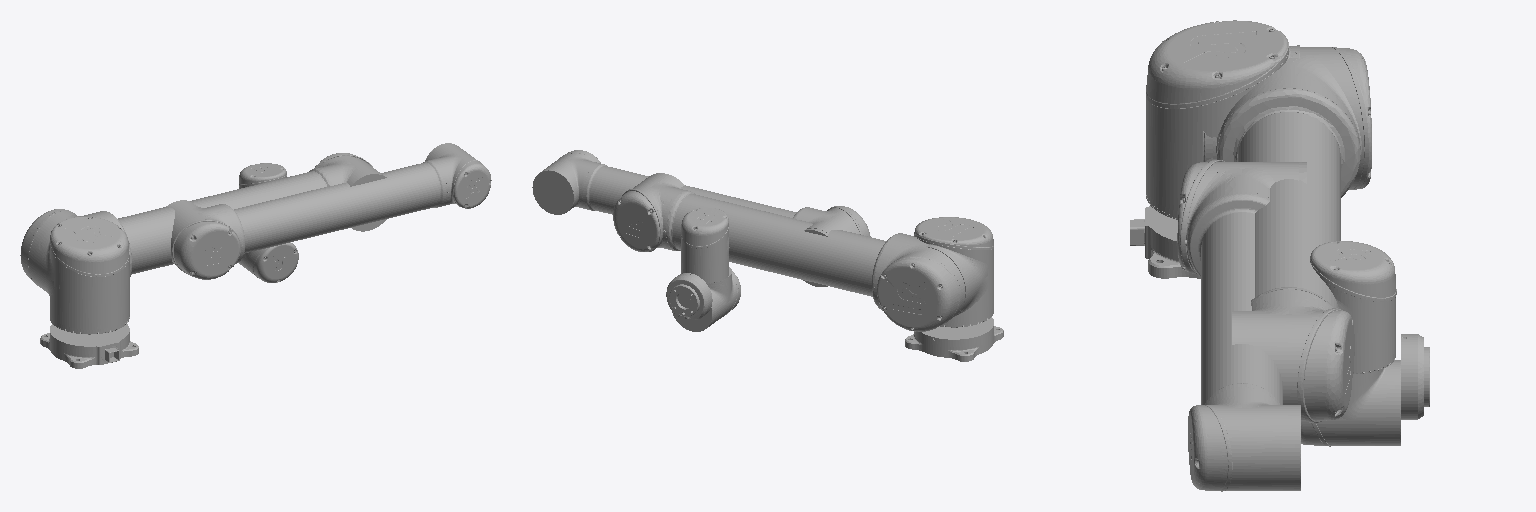
URDF robot description (UR3e):
<?xml version="1.0" encoding="utf-8"?>
<!-- =================================================================================== -->
<!-- |    This document was autogenerated by xacro from ur3e_robot.urdf.xacro          | -->
<!-- |    EDITING THIS FILE BY HAND IS NOT RECOMMENDED                                 | -->
<!-- =================================================================================== -->
<robot name="UR3e">
  <gazebo>
    <plugin filename="libgazebo_ros_control.so" name="ros_control">
      <!--robotNamespace>/</robotNamespace-->
      <!--robotSimType>gazebo_ros_control/DefaultRobotHWSim</robotSimType-->
    </plugin>
    <!--
    <plugin name="gazebo_ros_power_monitor_controller" filename="libgazebo_ros_power_monitor.so">
      <alwaysOn>true</alwaysOn>
      <updateRate>1.0</updateRate>
      <timeout>5</timeout>
      <powerStateTopic>power_state</powerStateTopic>
      <powerStateRate>10.0</powerStateRate>
      <fullChargeCapacity>87.78</fullChargeCapacity>     
      <dischargeRate>-474</dischargeRate>
      <chargeRate>525</chargeRate>
      <dischargeVoltage>15.52</dischargeVoltage>
      <chargeVoltage>16.41</chargeVoltage>
    </plugin>
-->
  </gazebo>
  <!--
  Author: [author]
-->
  <!-- measured from model -->
  <link name="base_link">
    <visual>
      <geometry>
        <mesh filename="./meshes/ur3e/visual/base.dae"/>
      </geometry>
      <material name="LightGrey">
        <color rgba="0.7 0.7 0.7 1.0"/>
      </material>
    </visual>
    <collision>
      <geometry>
        <mesh filename="./meshes/ur3e/collision/base.stl"/>
      </geometry>
    </collision>
    <inertial>
      <mass value="2.0"/>
      <origin rpy="0 0 0" xyz="0.0 0.0 0.0"/>
      <inertia ixx="0.0030531654454" ixy="0.0" ixz="0.0" iyy="0.0030531654454" iyz="0.0" izz="0.005625"/>
    </inertial>
  </link>
  <joint name="shoulder_pan_joint" type="revolute">
    <parent link="base_link"/>
    <child link="shoulder_link"/>
    <origin rpy="0.0 0.0 0.0" xyz="0.0 0.0 0.152"/>
    <axis xyz="0 0 1"/>
    <limit effort="330.0" lower="-6.28318530718" upper="6.28318530718" velocity="3.14"/>
    <dynamics damping="0.0" friction="0.0"/>
  </joint>
  <link name="shoulder_link">
    <visual>
      <geometry>
        <mesh filename="./meshes/ur3e/visual/shoulder.dae"/>
      </geometry>
      <material name="LightGrey">
        <color rgba="0.7 0.7 0.7 1.0"/>
      </material>
    </visual>
    <collision>
      <geometry>
        <mesh filename="./meshes/ur3e/collision/shoulder.stl"/>
      </geometry>
    </collision>
    <inertial>
      <mass value="2.0"/>
      <origin rpy="0 0 0" xyz="0.0 0.0 0.0"/>
      <inertia ixx="0.0080931634294" ixy="0.0" ixz="0.0" iyy="0.0080931634294" iyz="0.0" izz="0.005625"/>
    </inertial>
  </link>
  <joint name="shoulder_lift_joint" type="revolute">
    <parent link="shoulder_link"/>
    <child link="upper_arm_link"/>
    <origin rpy="0.0 1.57079632679 0.0" xyz="0.0 0.12 0.0"/>
    <axis xyz="0 1 0"/>
    <limit effort="330.0" lower="-6.28318530718" upper="6.28318530718" velocity="3.14"/>
    <dynamics damping="0.0" friction="0.0"/>
  </joint>
  <link name="upper_arm_link">
    <visual>
      <geometry>
        <mesh filename="./meshes/ur3e/visual/upperarm.dae"/>
      </geometry>
      <material name="LightGrey">
        <color rgba="0.7 0.7 0.7 1.0"/>
      </material>
    </visual>
    <collision>
      <geometry>
        <mesh filename="./meshes/ur3e/collision/upperarm.stl"/>
      </geometry>
    </collision>
    <inertial>
      <mass value="3.42"/>
      <origin rpy="0 0 0" xyz="0.0 0.0 0.122"/>
      <inertia ixx="0.0217771262891" ixy="0.0" ixz="0.0" iyy="0.0217771262891" iyz="0.0" izz="0.00961875"/>
    </inertial>
  </link>
  <joint name="elbow_joint" type="revolute">
    <parent link="upper_arm_link"/>
    <child link="forearm_link"/>
    <origin rpy="0.0 0.0 0.0" xyz="0.0 -0.093 0.244"/>
    <axis xyz="0 1 0"/>
    <limit effort="150.0" lower="-3.14159265359" upper="3.14159265359" velocity="3.14"/>
    <dynamics damping="0.0" friction="0.0"/>
  </joint>
  <link name="forearm_link">
    <visual>
      <geometry>
        <mesh filename="./meshes/ur3e/visual/forearm.dae"/>
      </geometry>
      <material name="LightGrey">
        <color rgba="0.7 0.7 0.7 1.0"/>
      </material>
    </visual>
    <collision>
      <geometry>
        <mesh filename="./meshes/ur3e/collision/forearm.stl"/>
      </geometry>
    </collision>
    <inertial>
      <mass value="1.26"/>
      <origin rpy="0 0 0" xyz="0.0 0.0 0.1065"/>
      <inertia ixx="0.00653561738575" ixy="0.0" ixz="0.0" iyy="0.00653561738575" iyz="0.0" izz="0.00354375"/>
    </inertial>
  </link>
  <joint name="wrist_1_joint" type="revolute">
    <parent link="forearm_link"/>
    <child link="wrist_1_link"/>
    <origin rpy="0.0 1.57079632679 0.0" xyz="0.0 0.0 0.213"/>
    <axis xyz="0 1 0"/>
    <limit effort="54.0" lower="-6.28318530718" upper="6.28318530718" velocity="6.28"/>
    <dynamics damping="0.0" friction="0.0"/>
  </joint>
  <link name="wrist_1_link">
    <visual>
      <geometry>
        <mesh filename="./meshes/ur3e/visual/wrist1.dae"/>
      </geometry>
      <material name="LightGrey">
        <color rgba="0.7 0.7 0.7 1.0"/>
      </material>
    </visual>
    <collision>
      <geometry>
        <mesh filename="./meshes/ur3e/collision/wrist1.stl"/>
      </geometry>
    </collision>
    <inertial>
      <mass value="0.8"/>
      <origin rpy="0 0 0" xyz="0.0 0.104 0.0"/>
      <inertia ixx="0.002084999166" ixy="0.0" ixz="0.0" iyy="0.002084999166" iyz="0.0" izz="0.00225"/>
    </inertial>
  </link>
  <joint name="wrist_2_joint" type="revolute">
    <parent link="wrist_1_link"/>
    <child link="wrist_2_link"/>
    <origin rpy="0.0 0.0 0.0" xyz="0.0 0.104 0.0"/>
    <axis xyz="0 0 1"/>
    <limit effort="54.0" lower="-6.28318530718" upper="6.28318530718" velocity="6.28"/>
    <dynamics damping="0.0" friction="0.0"/>
  </joint>
  <link name="wrist_2_link">
    <visual>
      <geometry>
        <mesh filename="./meshes/ur3e/visual/wrist2.dae"/>
      </geometry>
      <material name="LightGrey">
        <color rgba="0.7 0.7 0.7 1.0"/>
      </material>
    </visual>
    <collision>
      <geometry>
        <mesh filename="./meshes/ur3e/collision/wrist2.stl"/>
      </geometry>
    </collision>
    <inertial>
      <mass value="0.8"/>
      <origin rpy="0 0 0" xyz="0.0 0.0 0.085"/>
      <inertia ixx="0.002084999166" ixy="0.0" ixz="0.0" iyy="0.002084999166" iyz="0.0" izz="0.00225"/>
    </inertial>
  </link>
  <joint name="wrist_3_joint" type="revolute">
    <parent link="wrist_2_link"/>
    <child link="wrist_3_link"/>
    <origin rpy="0.0 0.0 0.0" xyz="0.0 0.0 0.085"/>
    <axis xyz="0 1 0"/>
    <limit effort="54.0" lower="-6.28318530718" upper="6.28318530718" velocity="6.28"/>
    <dynamics damping="0.0" friction="0.0"/>
  </joint>
  <link name="wrist_3_link">
    <visual>
      <geometry>
        <mesh filename="./meshes/ur3e/visual/wrist3.dae"/>
      </geometry>
      <material name="LightGrey">
        <color rgba="0.7 0.7 0.7 1.0"/>
      </material>
    </visual>
    <collision>
      <geometry>
        <mesh filename="./meshes/ur3e/collision/wrist3.stl"/>
      </geometry>
    </collision>
    <inertial>
      <mass value="0.35"/>
      <origin rpy="1.57079632679 0 0" xyz="0.0 0.071 0.0"/>
      <inertia ixx="0.00014104994358" ixy="0.0" ixz="0.0" iyy="0.00014104994358" iyz="0.0" izz="0.0001792"/>
    </inertial>
  </link>
  <joint name="ee_fixed_joint" type="fixed">
    <parent link="wrist_3_link"/>
    <child link="ee_link"/>
    <origin rpy="0.0 0.0 1.57079632679" xyz="0.0 0.092 0.0"/>
  </joint>
  <link name="ee_link">
    <collision>
      <geometry>
        <box size="0.01 0.01 0.01"/>
      </geometry>
      <origin rpy="0 0 0" xyz="-0.01 0 0"/>
    </collision>
  </link>
  <transmission name="shoulder_pan_trans">
    <type>transmission_interface/SimpleTransmission</type>
    <joint name="shoulder_pan_joint">
      <hardwareInterface>hardware_interface/PositionJointInterface</hardwareInterface>
    </joint>
    <actuator name="shoulder_pan_motor">
      <mechanicalReduction>1</mechanicalReduction>
    </actuator>
  </transmission>
  <transmission name="shoulder_lift_trans">
    <type>transmission_interface/SimpleTransmission</type>
    <joint name="shoulder_lift_joint">
      <hardwareInterface>hardware_interface/PositionJointInterface</hardwareInterface>
    </joint>
    <actuator name="shoulder_lift_motor">
      <mechanicalReduction>1</mechanicalReduction>
    </actuator>
  </transmission>
  <transmission name="elbow_trans">
    <type>transmission_interface/SimpleTransmission</type>
    <joint name="elbow_joint">
      <hardwareInterface>hardware_interface/PositionJointInterface</hardwareInterface>
    </joint>
    <actuator name="elbow_motor">
      <mechanicalReduction>1</mechanicalReduction>
    </actuator>
  </transmission>
  <transmission name="wrist_1_trans">
    <type>transmission_interface/SimpleTransmission</type>
    <joint name="wrist_1_joint">
      <hardwareInterface>hardware_interface/PositionJointInterface</hardwareInterface>
    </joint>
    <actuator name="wrist_1_motor">
      <mechanicalReduction>1</mechanicalReduction>
    </actuator>
  </transmission>
  <transmission name="wrist_2_trans">
    <type>transmission_interface/SimpleTransmission</type>
    <joint name="wrist_2_joint">
      <hardwareInterface>hardware_interface/PositionJointInterface</hardwareInterface>
    </joint>
    <actuator name="wrist_2_motor">
      <mechanicalReduction>1</mechanicalReduction>
    </actuator>
  </transmission>
  <transmission name="wrist_3_trans">
    <type>transmission_interface/SimpleTransmission</type>
    <joint name="wrist_3_joint">
      <hardwareInterface>hardware_interface/PositionJointInterface</hardwareInterface>
    </joint>
    <actuator name="wrist_3_motor">
      <mechanicalReduction>1</mechanicalReduction>
    </actuator>
  </transmission>
  <gazebo reference="shoulder_link">
    <selfCollide>true</selfCollide>
  </gazebo>
  <gazebo reference="upper_arm_link">
    <selfCollide>true</selfCollide>
  </gazebo>
  <gazebo reference="forearm_link">
    <selfCollide>true</selfCollide>
  </gazebo>
  <gazebo reference="wrist_1_link">
    <selfCollide>true</selfCollide>
  </gazebo>
  <gazebo reference="wrist_3_link">
    <selfCollide>true</selfCollide>
  </gazebo>
  <gazebo reference="wrist_2_link">
    <selfCollide>true</selfCollide>
  </gazebo>
  <gazebo reference="ee_link">
    <selfCollide>true</selfCollide>
  </gazebo>
  <!-- ROS base_link to UR 'Base' Coordinates transform -->
  <link name="base"/>
  <joint name="base_link-base_fixed_joint" type="fixed">
    <!-- NOTE: this rotation is only needed as long as base_link itself is
                 not corrected wrt the real robot (ie: rotated over 180
                 degrees)
      -->
    <origin rpy="0 0 -3.14159265359" xyz="0 0 0"/>
    <parent link="base_link"/>
    <child link="base"/>
  </joint>
  <!-- Frame coincident with all-zeros TCP on UR controller -->
  <link name="tool0"/>
  <joint name="wrist_3_link-tool0_fixed_joint" type="fixed">
    <origin rpy="-1.57079632679 0 0" xyz="0 0.092 0"/>
    <parent link="wrist_3_link"/>
    <child link="tool0"/>
  </joint>
  <link name="world"/>
  <joint name="world_joint" type="fixed">
    <parent link="world"/>
    <child link="base_link"/>
    <origin rpy="0.0 0.0 0.0" xyz="0.0 0.0 0.0"/>
  </joint>
</robot>

--- What the picture shows (computed from the rendered views, not written in the file) ---
3 views of the same robot in one strip: view 1: azimuth 30°, elevation 25°; view 2: azimuth 150°, elevation 25°; view 3: azimuth 270°, elevation 25° (orthographic).
Model UR3e with 11 links and 10 joints (6 revolute, 4 fixed), rooted at world, posed every joint at zero.
Links seen in each view (by area): view 1: forearm_link, shoulder_link, upper_arm_link, base_link, wrist_2_link, wrist_1_link; view 2: upper_arm_link, forearm_link, shoulder_link, wrist_1_link, base_link, wrist_3_link, wrist_2_link; view 3: upper_arm_link, forearm_link, shoulder_link, wrist_1_link, wrist_2_link, base_link, wrist_3_link.
Link boxes in pixels (x1,y1,x2,y2): forearm_link: [166, 143, 491, 279]; shoulder_link: [32, 217, 129, 334]; upper_arm_link: [20, 153, 386, 293]; base_link: [40, 324, 138, 368]; wrist_2_link: [238, 242, 298, 282]; wrist_1_link: [239, 163, 286, 188]; upper_arm_link: [613, 173, 965, 331]; forearm_link: [532, 150, 870, 286]; shoulder_link: [914, 217, 993, 327]; wrist_1_link: [681, 208, 729, 283]; base_link: [905, 317, 1003, 361]; wrist_3_link: [666, 273, 712, 319]; wrist_2_link: [672, 267, 740, 331]; upper_arm_link: [1203, 47, 1371, 422]; forearm_link: [1177, 160, 1306, 491]; shoulder_link: [1146, 20, 1299, 219]; wrist_1_link: [1310, 241, 1396, 373]; wrist_2_link: [1301, 360, 1400, 446]; base_link: [1130, 206, 1200, 278]; wrist_3_link: [1401, 334, 1429, 419].
Size in the robot's own frame: 0.9384 by 0.3151 by 0.2501 metres.
7 mesh visuals loaded from 7 distinct referenced files (7 Collada DAE).